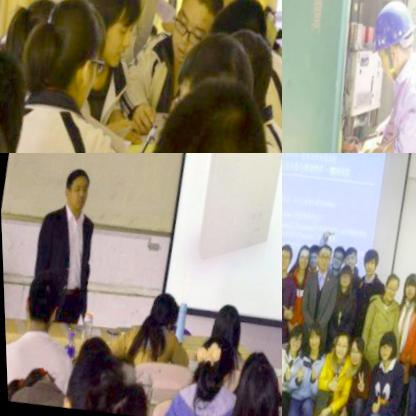head: (142, 71, 278, 153), (21, 0, 110, 110), (172, 32, 255, 128), (213, 19, 281, 105), (206, 0, 276, 69), (79, 0, 145, 73), (160, 0, 222, 74), (0, 34, 37, 152), (0, 0, 65, 67), (15, 262, 65, 335), (59, 353, 115, 414), (229, 346, 277, 416), (185, 331, 236, 394), (138, 284, 183, 338), (203, 296, 244, 351), (4, 353, 54, 397), (55, 163, 89, 213), (374, 330, 397, 364), (284, 323, 306, 356), (357, 247, 379, 279), (342, 339, 364, 370), (313, 241, 333, 274), (302, 323, 323, 352), (379, 275, 398, 306), (398, 273, 416, 304), (339, 245, 358, 274), (327, 246, 345, 274), (334, 265, 353, 291), (331, 334, 348, 360), (294, 244, 309, 270), (305, 245, 320, 271), (282, 240, 292, 273)
helmet: (359, 0, 416, 85)
